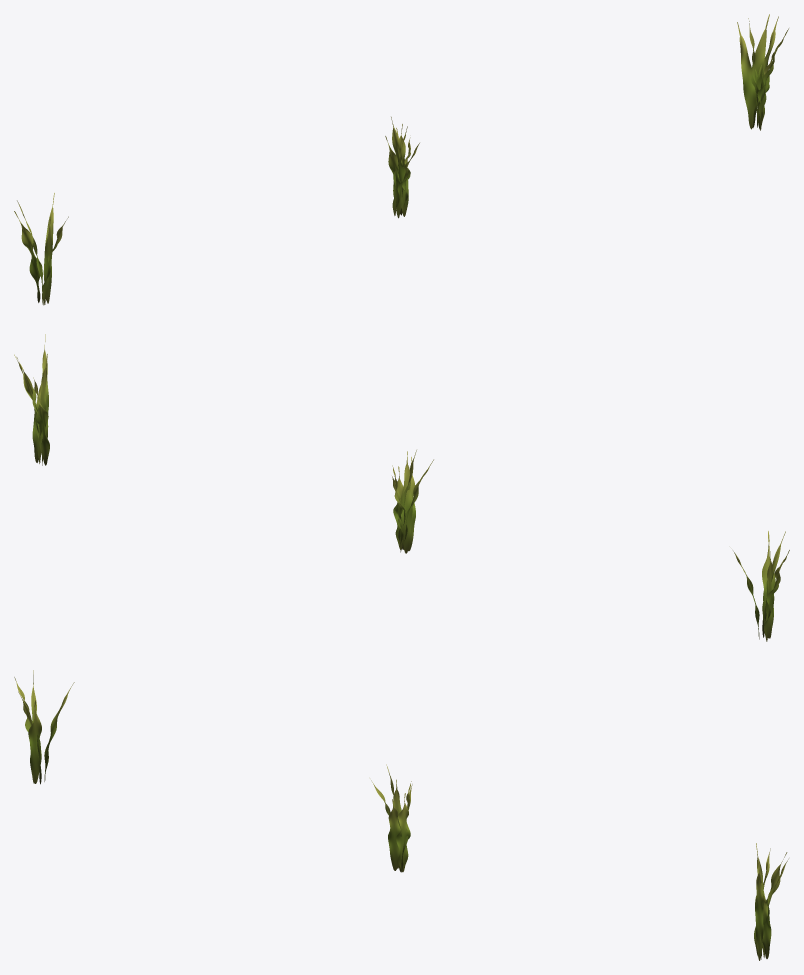
3 renders of one model, top to bottom at view 1: azimuth 30°, elevation 25°; view 2: azimuth 150°, elevation 25°; view 3: azimuth 330°, elevation 25°, orthographic.
Parts seen in each view (by area): view 1: ribbon-kelp.002, ribbon-kelp, ribbon-kelp.001; view 2: ribbon-kelp.001, ribbon-kelp.002, ribbon-kelp; view 3: ribbon-kelp.001, ribbon-kelp.002, ribbon-kelp.
Boxes of the visible parts, box(x1,y1,x2,y2) form: ribbon-kelp.002: box(737, 14, 788, 130); ribbon-kelp: box(14, 193, 68, 305); ribbon-kelp.001: box(385, 117, 419, 218); ribbon-kelp.001: box(392, 450, 433, 553); ribbon-kelp.002: box(14, 334, 49, 465); ribbon-kelp: box(733, 531, 789, 641); ribbon-kelp.001: box(371, 764, 412, 872); ribbon-kelp.002: box(754, 843, 788, 960); ribbon-kelp: box(14, 670, 74, 784).
Size of the model in its own units: 6.44 by 0.8969 by 0.4735.
